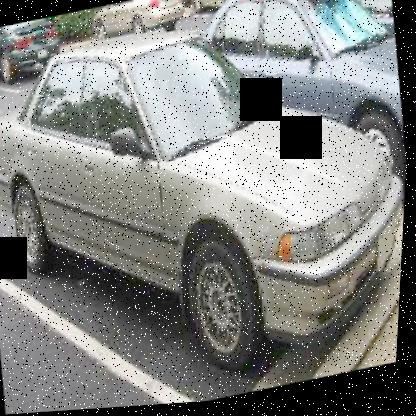not_emergency: (0, 0, 415, 407)
